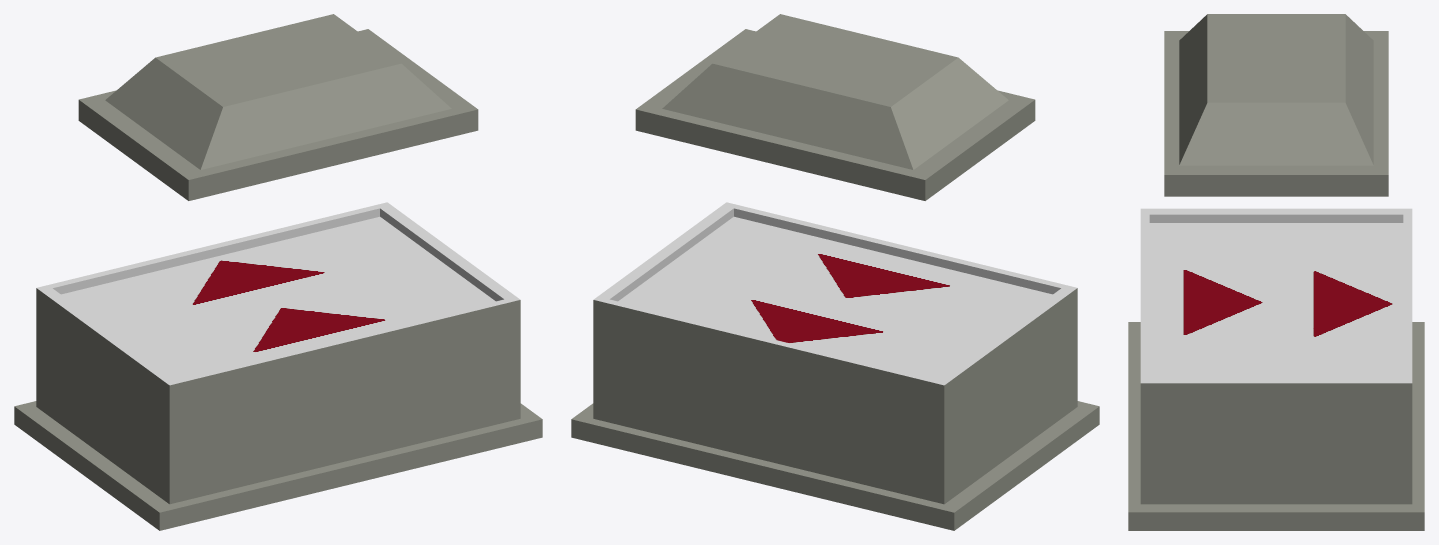
The model's file is Entrega.fbx.
The picture shows the model from 3 angles, left to right: view 1: azimuth 30°, elevation 25°; view 2: azimuth 150°, elevation 25°; view 3: azimuth 270°, elevation 25°; orthographic projection.
Visible parts, largest first — view 1: Entrega; view 2: Entrega; view 3: Entrega.
Boxes of the visible parts, x1=… form: Entrega: x1=14, y1=14, x2=542, y2=530; Entrega: x1=571, y1=14, x2=1099, y2=530; Entrega: x1=1128, y1=14, x2=1424, y2=530.
Bounding box in the file's own units: 142 × 132 × 93.6.
2 materials, 1 textured.
